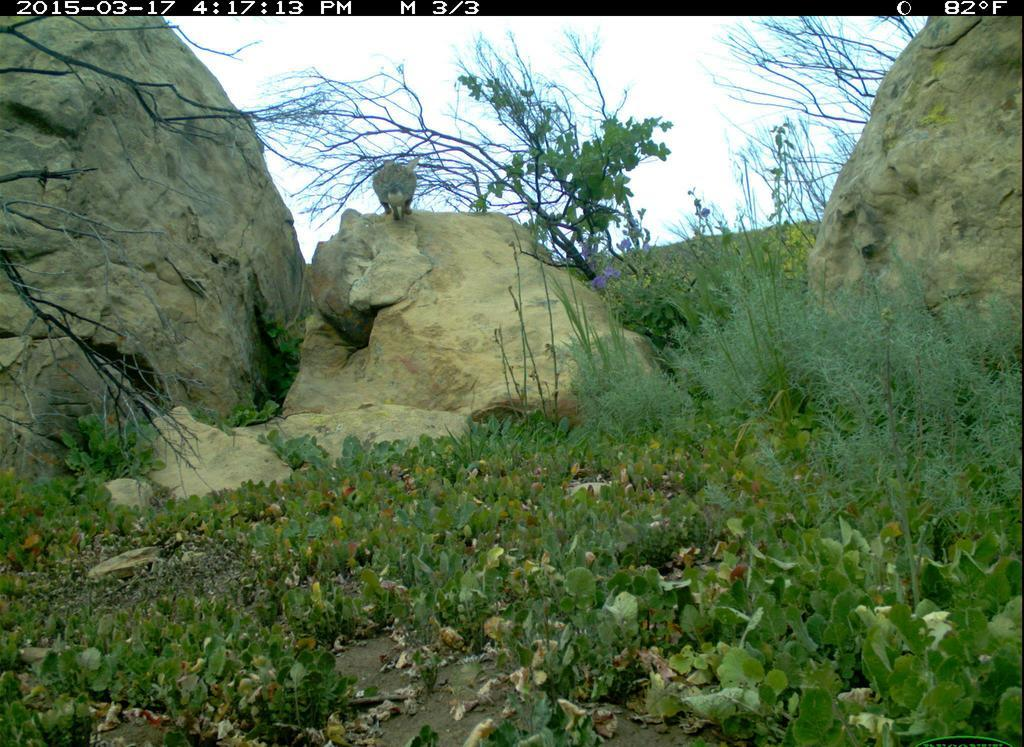rabbit: (369, 152, 431, 226)
